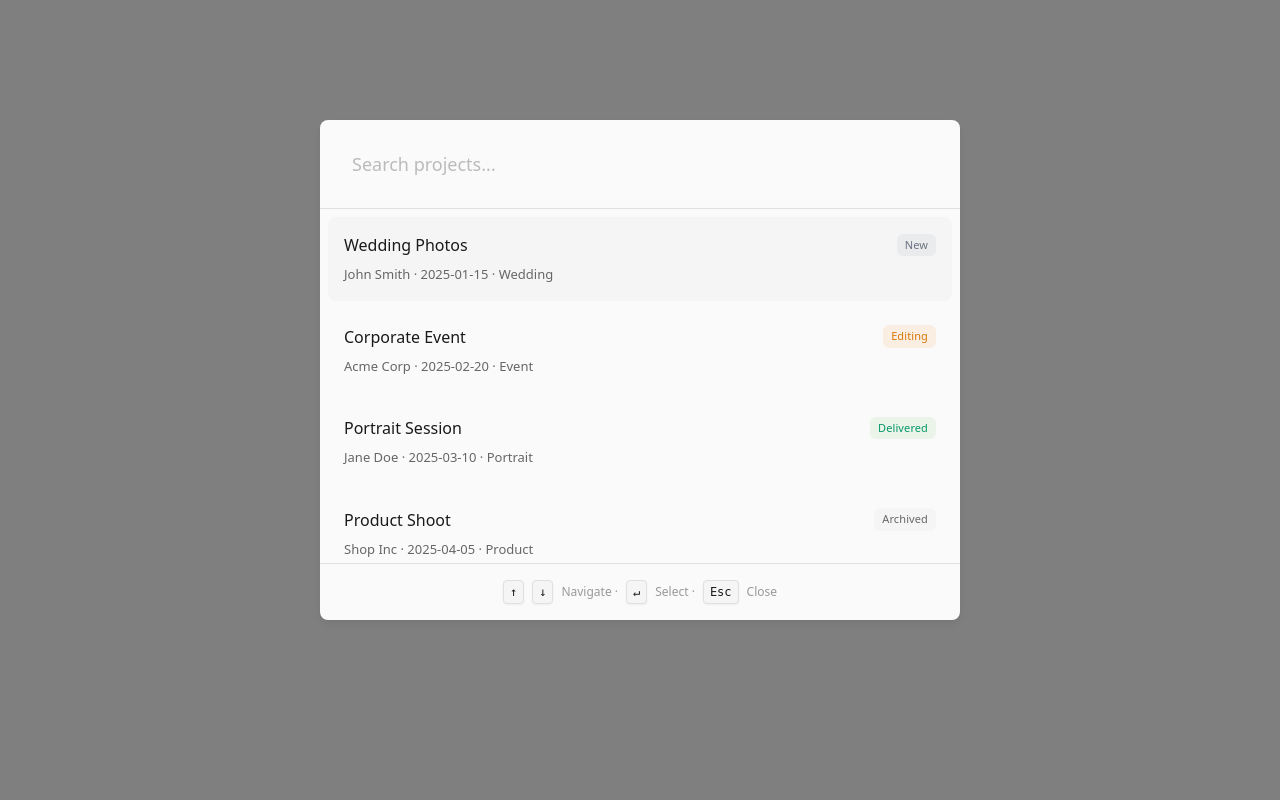
Test: commandPalette › filters projects by name
Expected: the text "Wedding Photos" is shown, [344,233,468,257]
In the field with placeholder "Search projects...": (640,164) [336,136,944,192], type "wedding"
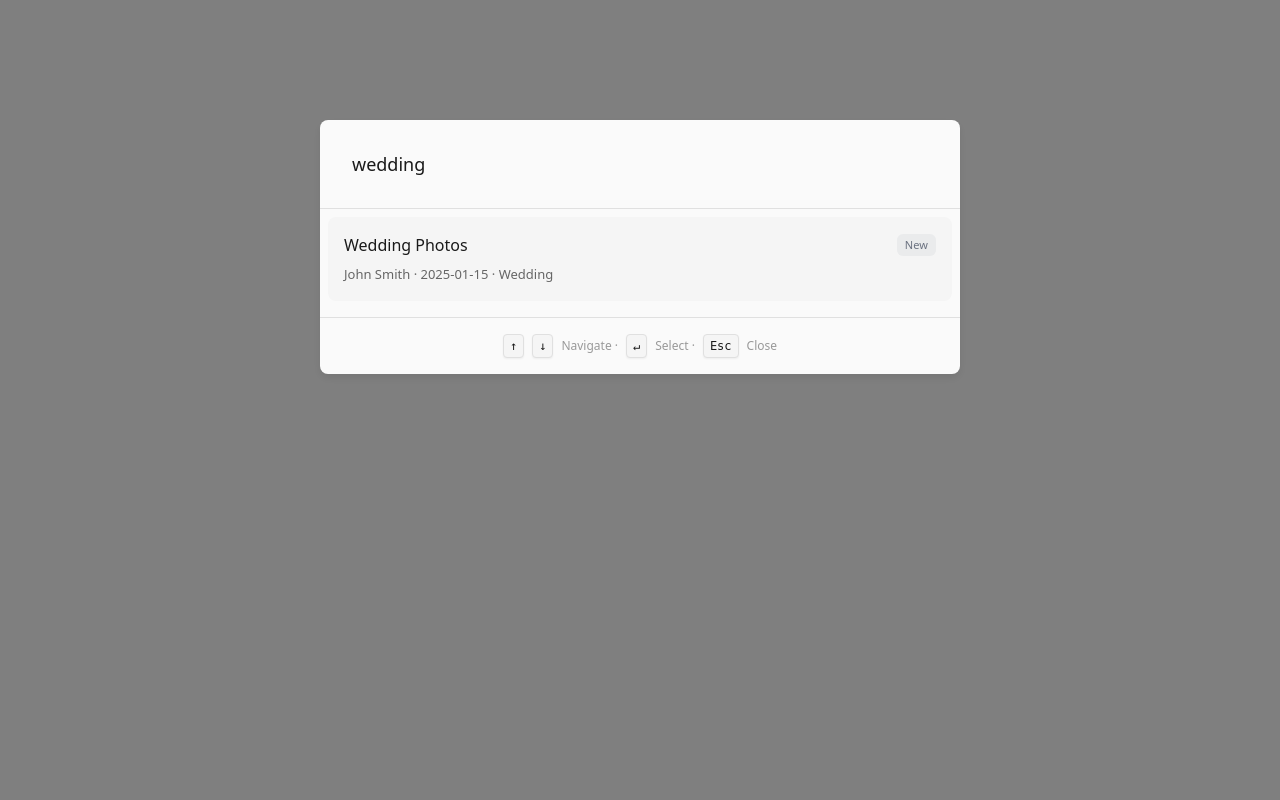
Expected: the text "Wedding Photos" is shown, [344,233,468,257]
Result: the button "Corporate Event" is gone
